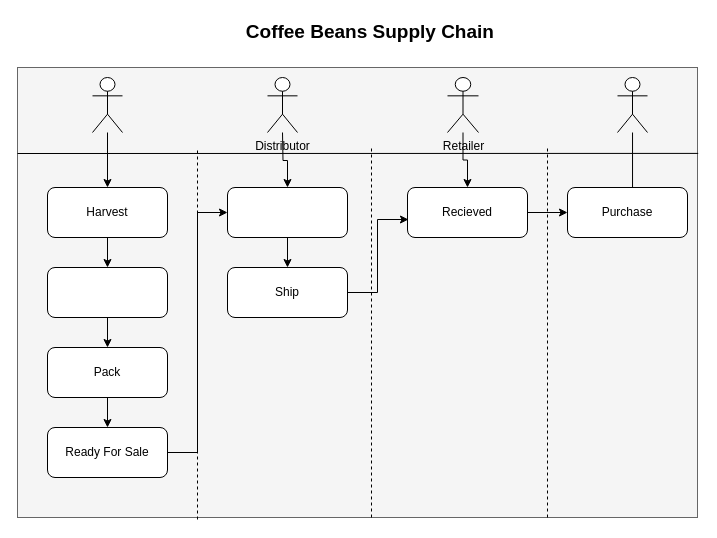
Some shapes in this 717 by 538 pixel diagram are drawn without their labels. Each missing label, with the centre of its shape:
"Buy" goes at point (287, 212).
"Consumer" goes at point (632, 104).
"Farmer" goes at point (107, 104).
"Process" goes at point (107, 292).
